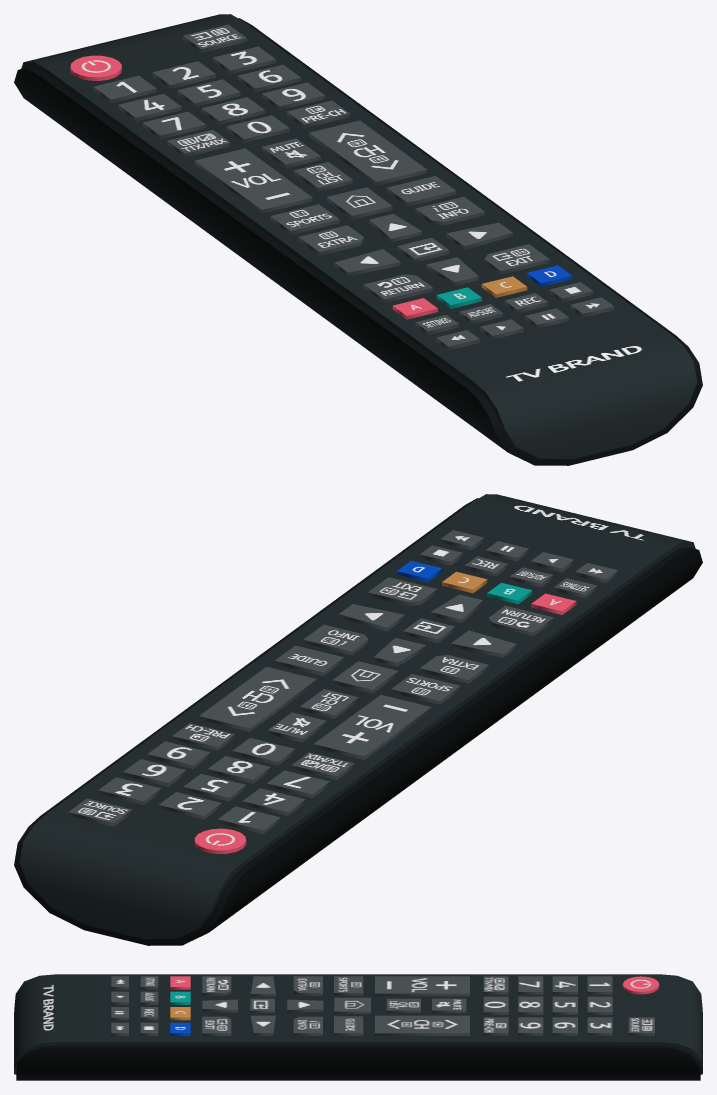
File: tv_remote_control.glb
3 renders of one model, top to bottom at view 1: azimuth 30°, elevation 25°; view 2: azimuth 150°, elevation 25°; view 3: azimuth 270°, elevation 25°, orthographic. The views are drawn at different scales.
Parts seen in each view (by area): view 1: Object_3, Object_4, Object_2; view 2: Object_3, Object_4, Object_2; view 3: Object_3, Object_2, Object_4.
Part boxes in pixels (x1,y1,x2,y2): Object_3: (21, 14, 697, 459); Object_4: (70, 24, 614, 350); Object_2: (14, 18, 702, 465); Object_3: (19, 494, 695, 939); Object_4: (68, 530, 618, 853); Object_2: (14, 498, 702, 945); Object_3: (14, 974, 702, 1074); Object_2: (16, 1045, 700, 1080); Object_4: (111, 976, 659, 1035).
Size of the model in its own units: 4.51 by 1.69 by 18.04.
Materials: 3 (3 with a texture image).
